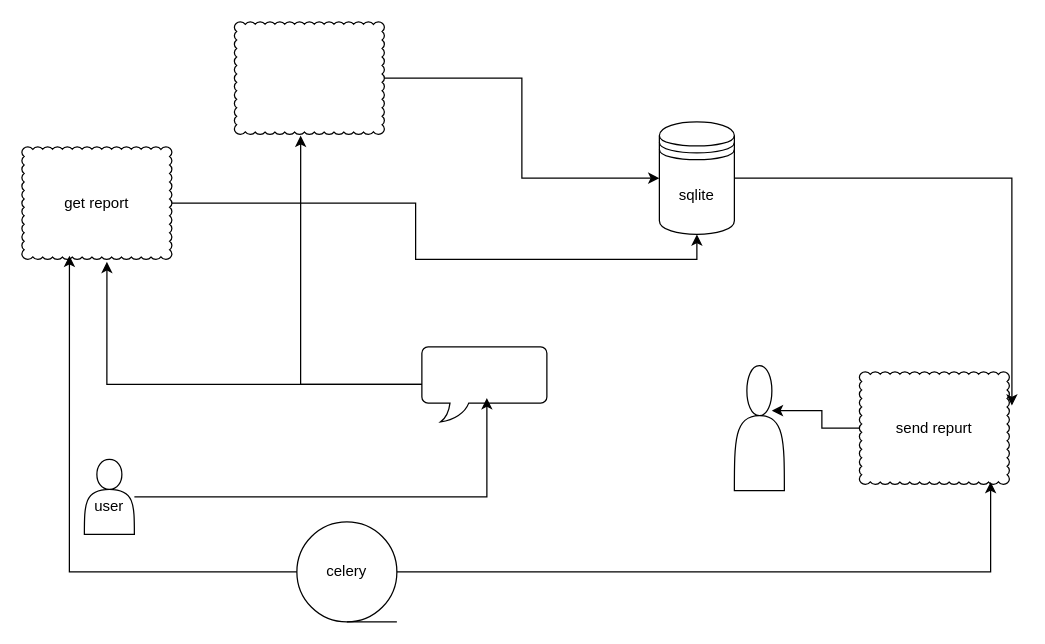
Some shapes in this 1045 by 644 pixel diagram are drawn without their labels. The shapes that lost their labels are listed below. From the top down, each one's box as (x1, y1, x2, y2) in pixels, then its label:
(233, 21, 384, 134): get first name last name phone status
(421, 346, 547, 422): telegrean bot
(733, 364, 784, 491): master
